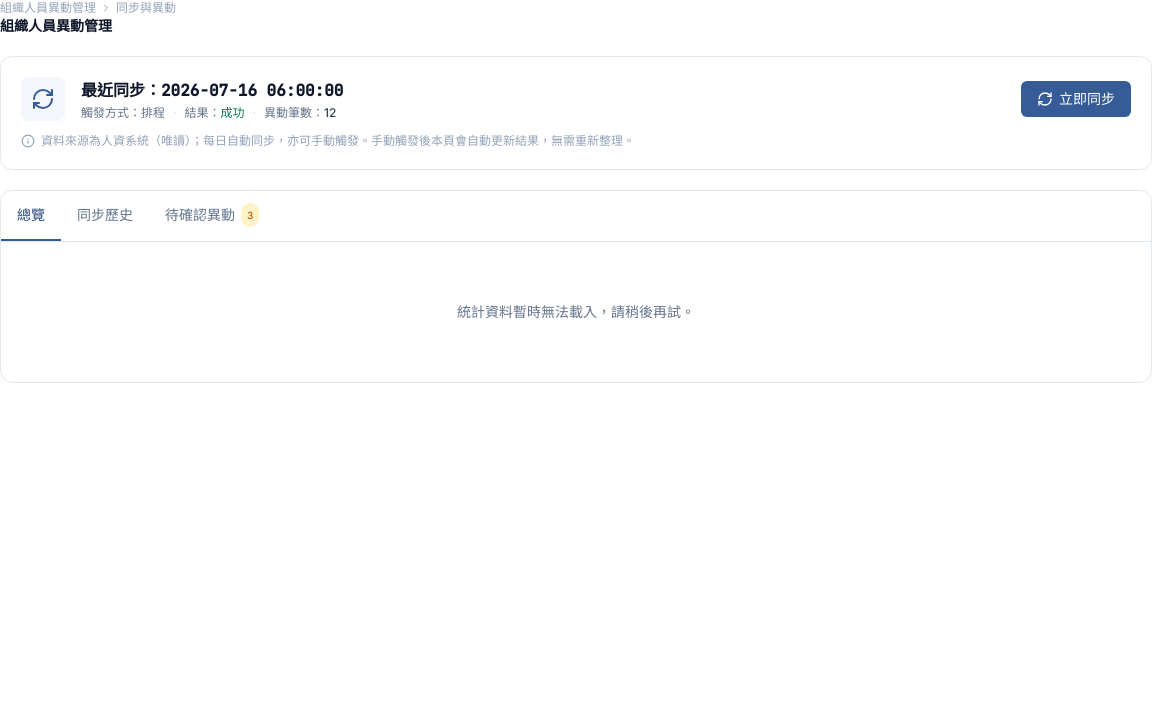
Scenario: OrgSyncPage — 頁籤列與總覽 KPI（F006） › TS-F006-075 KPI 查詢失敗（500）→ 總覽降級提示、其他頁籤不受影響
The width and height of the screenshot is (1152, 712).
Expected: the text "統計資料暫時無法載入，請稍後再試。" is shown, x1=457 y1=303 x2=695 y2=320
Click the button "同步歷史": (105, 216) x1=61 y1=191 x2=149 y2=241
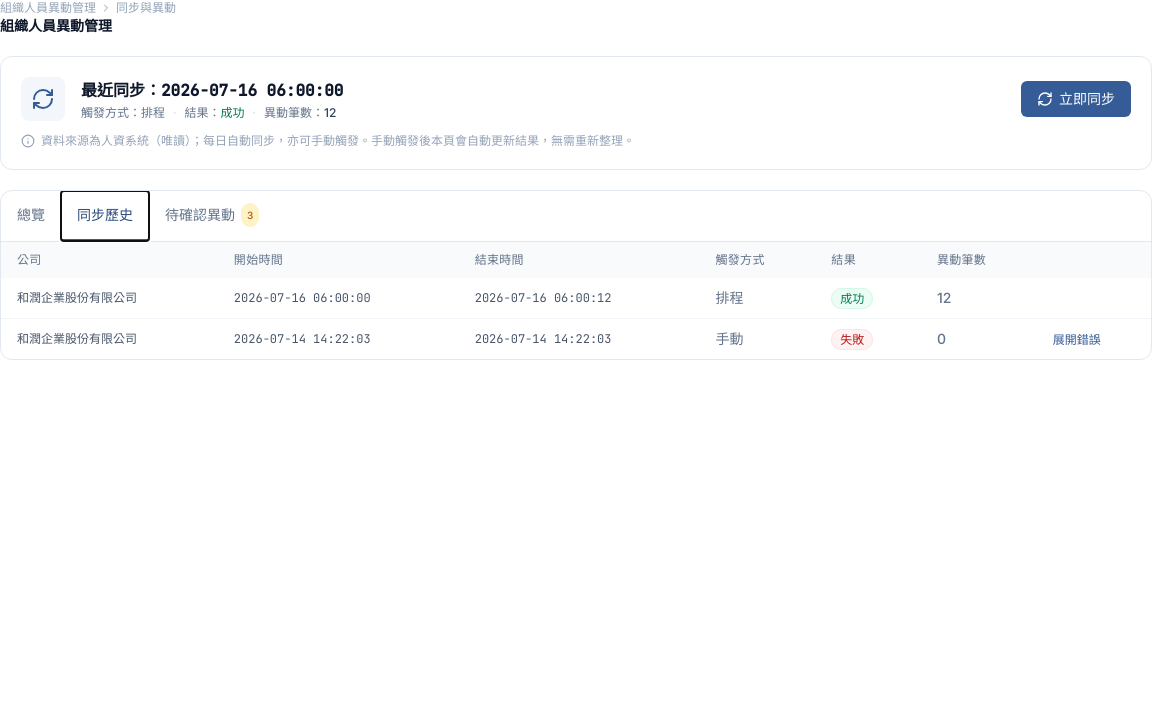
Result: the text "成功" in the row of "2026-07-16 06:00:12" is shown at x1=840 y1=291 x2=864 y2=306
Click the button "待確認異動 3": (212, 216) x1=149 y1=191 x2=275 y2=241
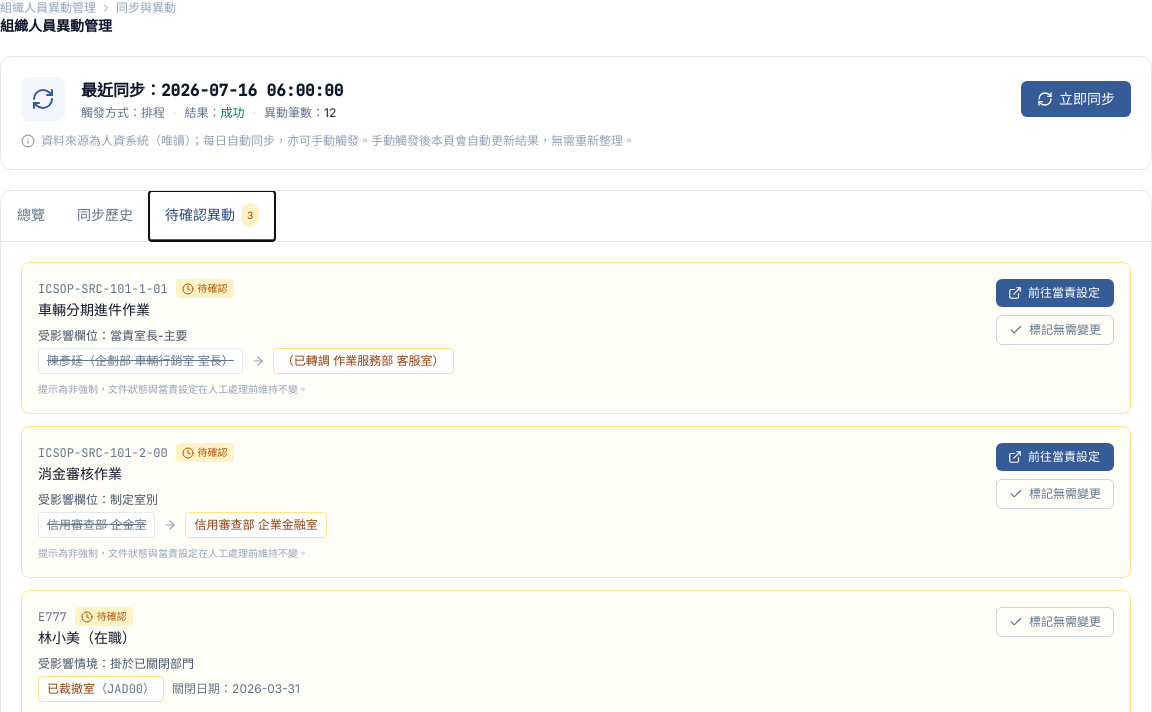
Result: the text "ICSOP-SRC-101-1-01" is shown at x1=38 y1=280 x2=168 y2=296
